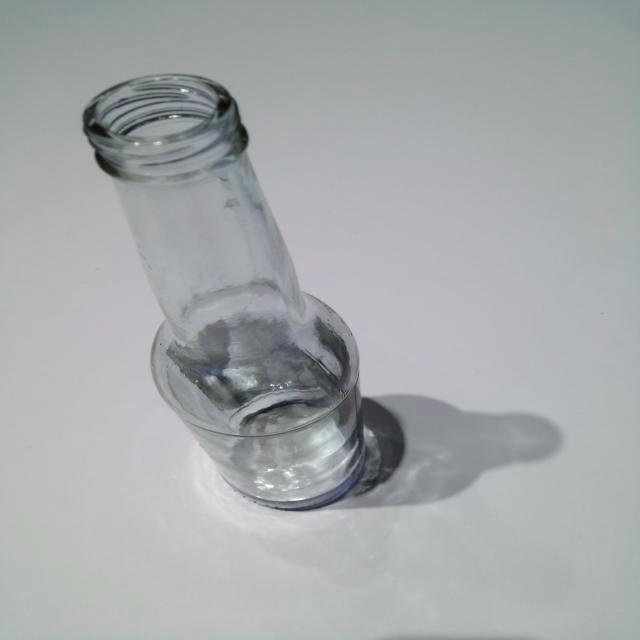glass: (78, 68, 391, 515)
